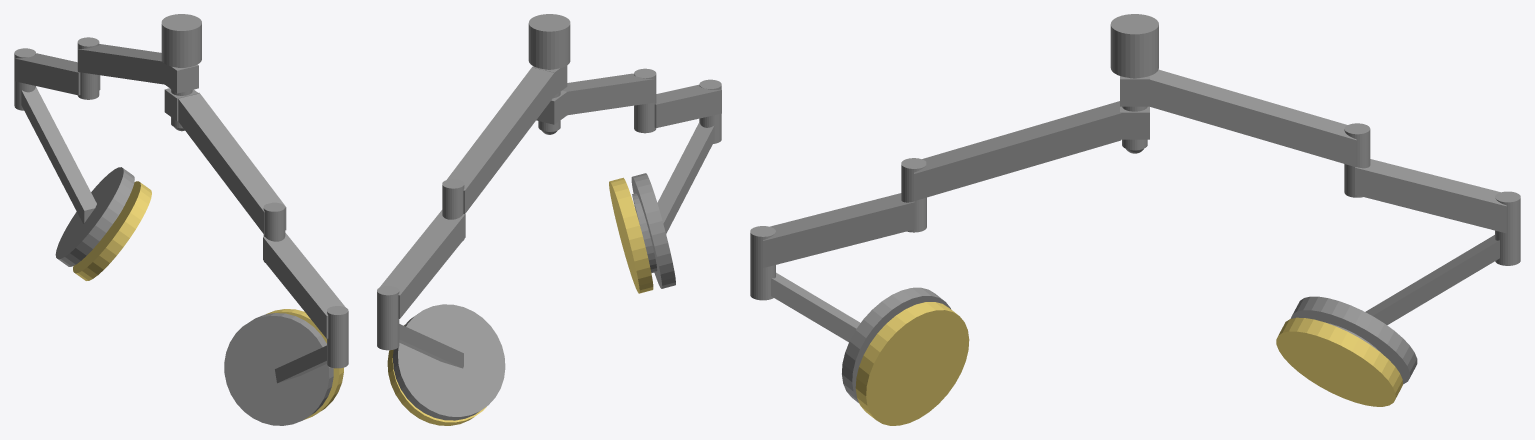
Rendered from amlytalmba.fbx.
3 views of the same model, side by side, from view 1: azimuth 30°, elevation 25°; view 2: azimuth 150°, elevation 25°; view 3: azimuth 270°, elevation 25° (orthographic). The views are drawn at different scales.
Parts seen in each view (by area): view 1: Cylinder.024; view 2: Cylinder.024; view 3: Cylinder.024.
Boxes of the visible parts, bbox=[...] form: Cylinder.024: bbox=[14, 14, 348, 425]; Cylinder.024: bbox=[377, 14, 721, 425]; Cylinder.024: bbox=[750, 14, 1520, 425].
Size of the model in its own units: 15.16 by 50.19 by 89.26.
